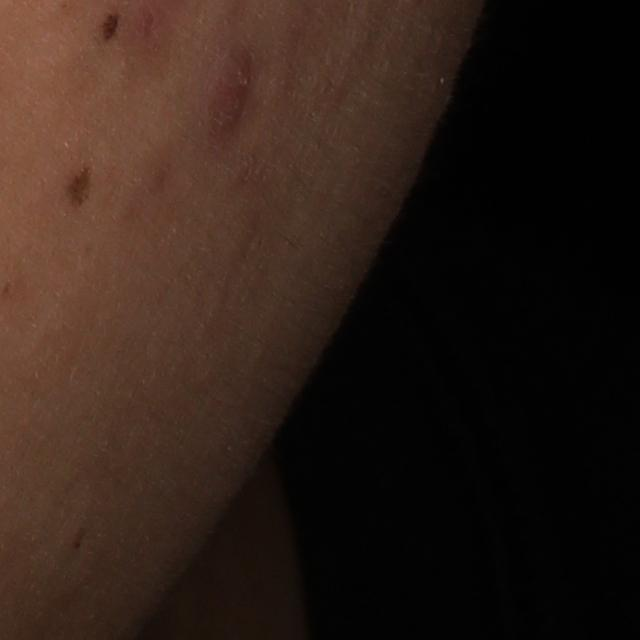nevus: (65, 163, 96, 210), (98, 11, 120, 45)
papule: (209, 54, 250, 128)
